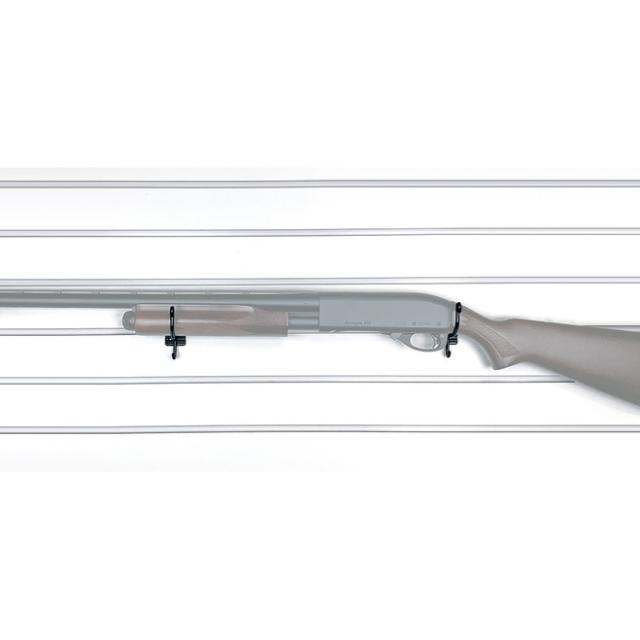ShotGun: (0, 292, 640, 409)
